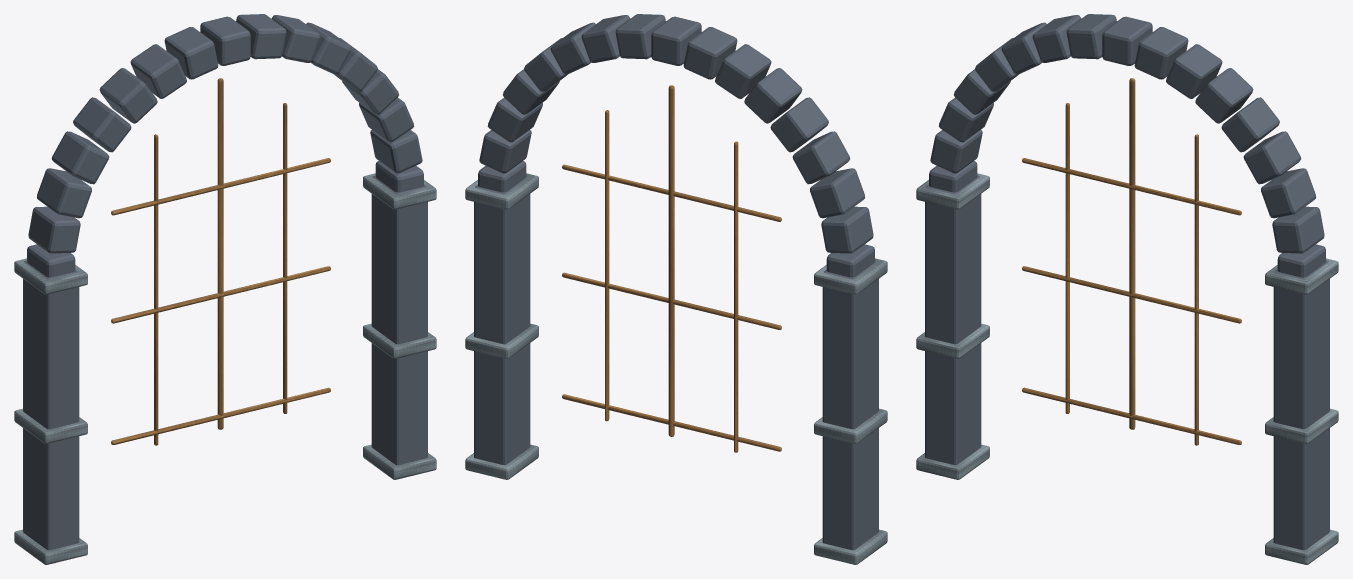
The model's file is gothic_arch.glb.
The picture shows the model from 3 angles, left to right: view 1: azimuth 30°, elevation 25°; view 2: azimuth 150°, elevation 25°; view 3: azimuth 330°, elevation 25°; orthographic projection.
Parts seen in each view (by area): view 1: gothic_arch; view 2: gothic_arch; view 3: gothic_arch.
Part boxes in pixels (bbox=[...]): gothic_arch: bbox=[14, 14, 436, 564]; gothic_arch: bbox=[465, 14, 887, 564]; gothic_arch: bbox=[916, 14, 1338, 564].
Bounding box in the file's own units: 6.08 × 7.12 × 0.86.
Materials: 3 (2 with a texture image).
